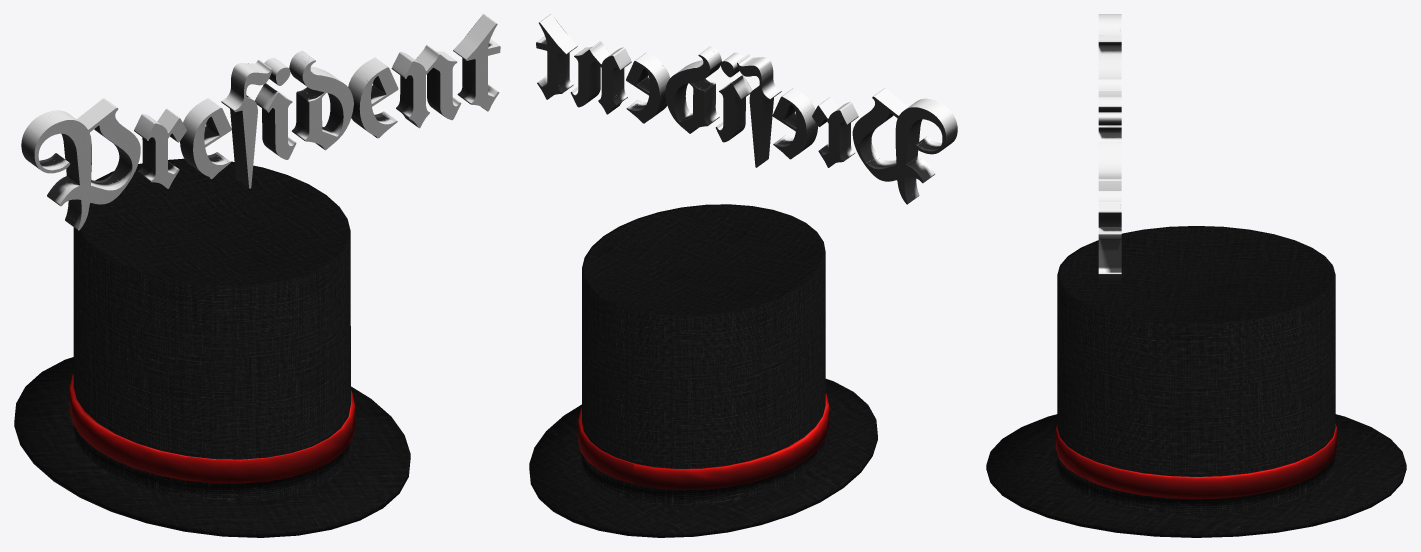
The model's file is tophat.dae.
3 renders of one model, left to right at view 1: azimuth 30°, elevation 25°; view 2: azimuth 150°, elevation 25°; view 3: azimuth 270°, elevation 25°, orthographic. The views are drawn at different scales.
Visible parts, largest first — view 1: hat, text; view 2: hat, text; view 3: hat, text.
Part boxes in pixels (<box>): hat: <box>14,158,410,537</box>; text: <box>21,14,500,230</box>; hat: <box>529,204,877,537</box>; text: <box>536,14,957,204</box>; hat: <box>986,226,1406,537</box>; text: <box>1098,14,1121,283</box>.
Bounding box in the file's own units: 0.3277 × 0.2897 × 0.2782.
Materials: 2 (2 with a texture image).
